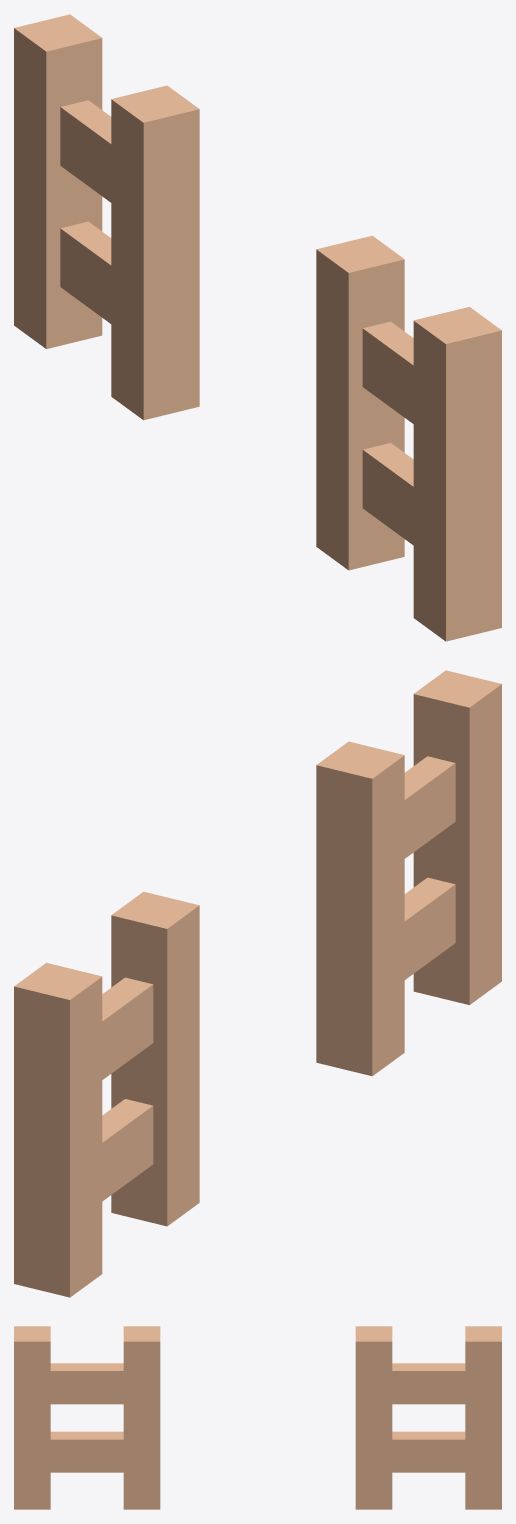
Rendered from fenceGate.glb.
3 renders of one model, top to bottom at view 1: azimuth 30°, elevation 25°; view 2: azimuth 150°, elevation 25°; view 3: azimuth 270°, elevation 25°, orthographic. The views are drawn at different scales.
Parts seen in each view (by area): view 1: fenceGate; view 2: fenceGate; view 3: fenceGate.
Part boxes in pixels (left/top/right/bottom): fenceGate: left=14, top=14, right=501, bottom=641; fenceGate: left=14, top=670, right=501, bottom=1297; fenceGate: left=14, top=1326, right=501, bottom=1509.
Size of the model in its own units: 0.075 by 0.38 by 1.
